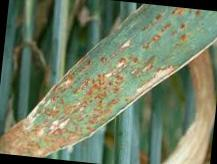Wheat: (34, 46, 167, 146)
